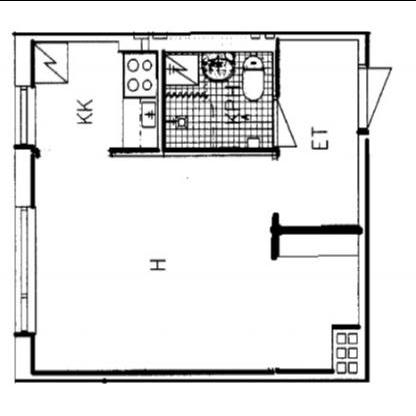door: (355, 57, 397, 133), (273, 90, 299, 151)
window: (8, 199, 42, 339), (10, 81, 40, 149)
